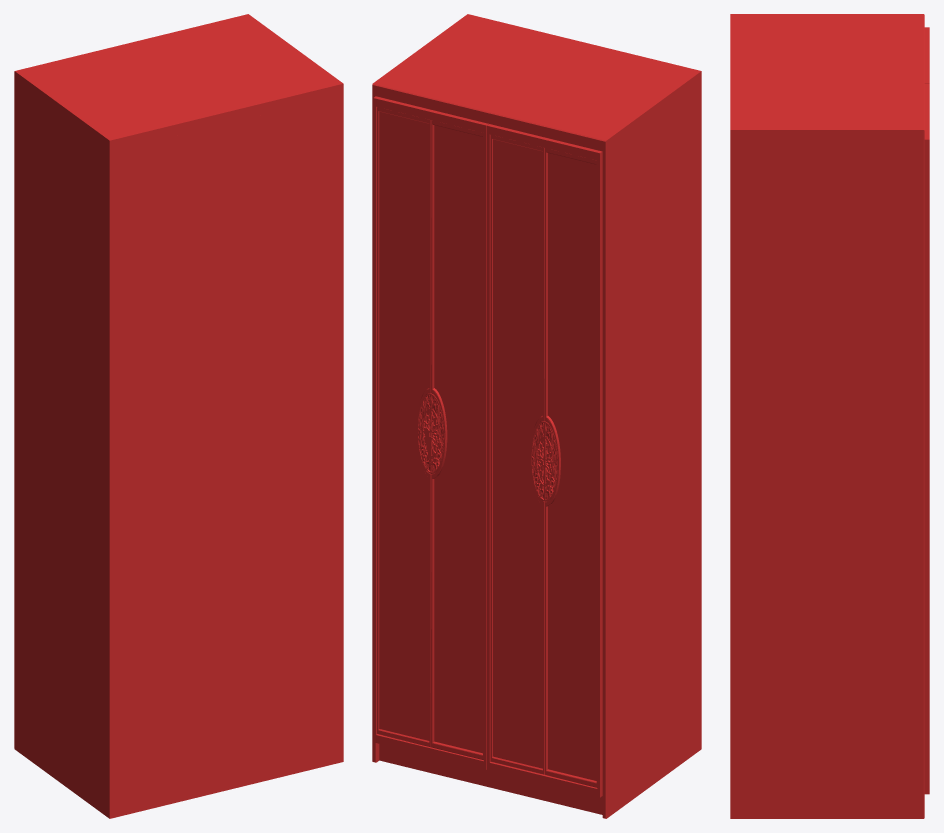
The picture shows the model from 3 angles, left to right: view 1: azimuth 30°, elevation 25°; view 2: azimuth 150°, elevation 25°; view 3: azimuth 270°, elevation 25°; orthographic projection.
Parts seen in each view (by area): view 1: solid_001_wire; view 2: solid_001_wire; view 3: solid_001_wire.
Part boxes in pixels (box(x1,y1,x2,y2)): solid_001_wire: box(14, 14, 343, 818); solid_001_wire: box(372, 14, 701, 818); solid_001_wire: box(730, 14, 929, 818).
Bounding box in the file's own units: 0.866 × 2.4 × 0.6292.
